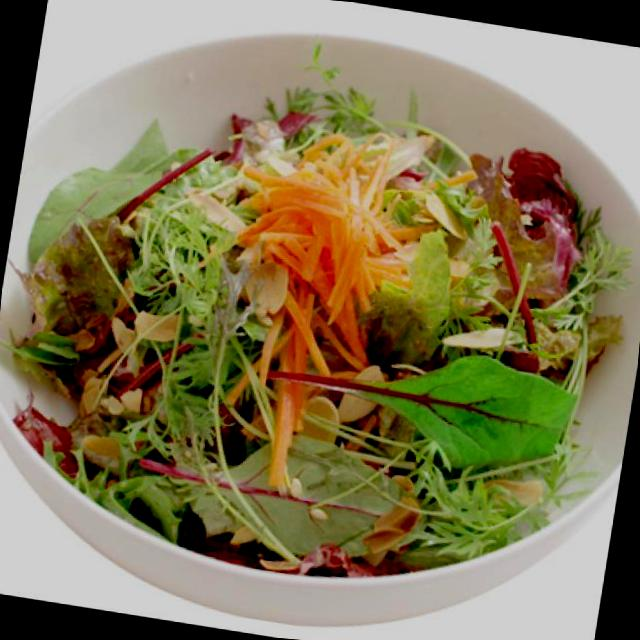Green Salad: (0, 64, 638, 578)
